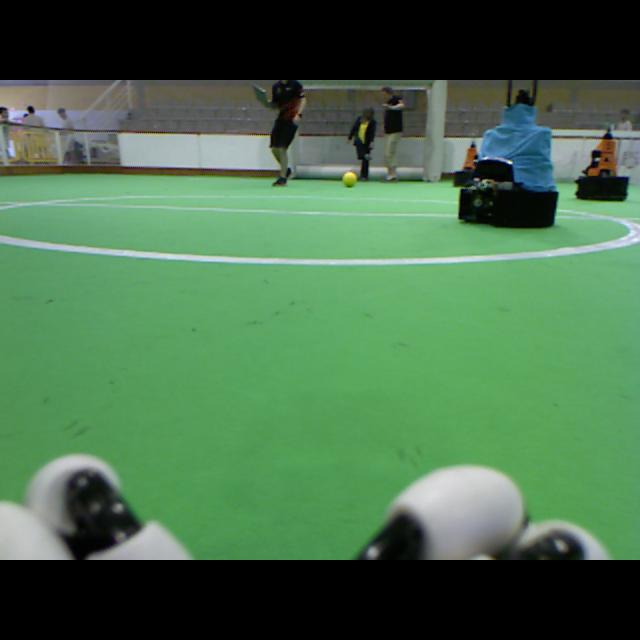ball: (342, 171, 356, 187)
robot: (576, 123, 628, 203), (454, 137, 478, 188)
